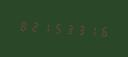eight: (17, 16, 27, 34)
five: (50, 19, 60, 36)
one: (83, 21, 93, 39), (39, 18, 49, 35)
six: (94, 22, 104, 39)
three: (61, 19, 71, 37), (72, 20, 82, 38)
two: (28, 17, 38, 35)
